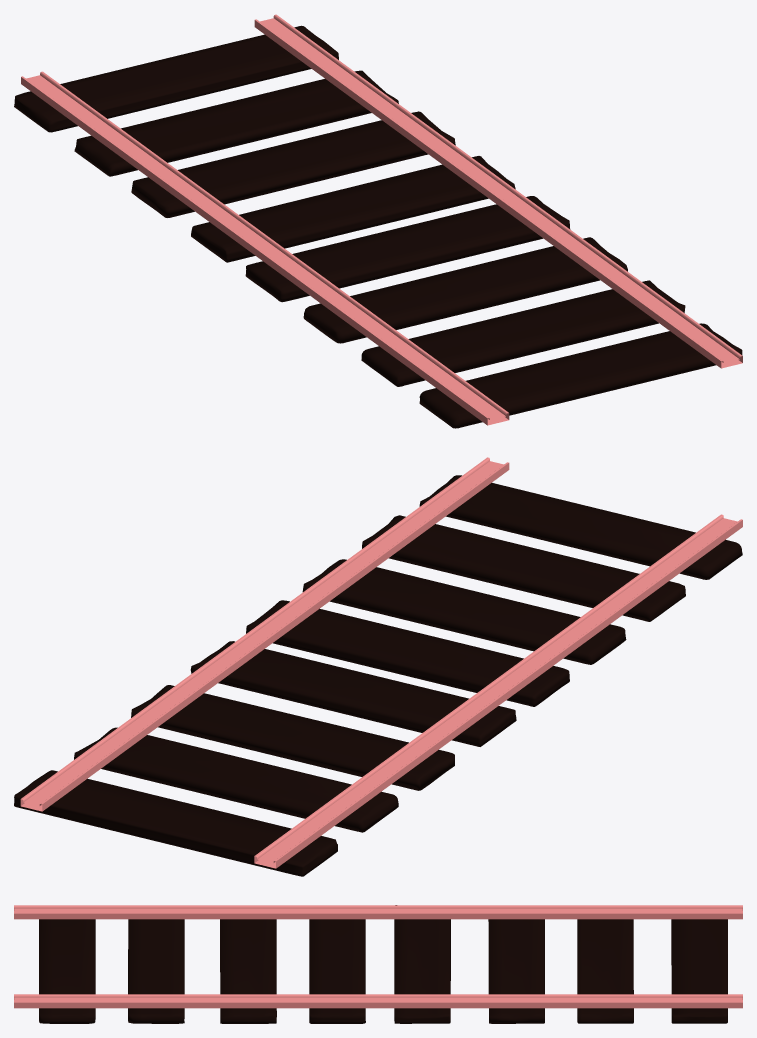
File: RailsLowCombines.FBX
The picture shows the model from 3 angles, top to bottom: view 1: azimuth 30°, elevation 25°; view 2: azimuth 150°, elevation 25°; view 3: azimuth 270°, elevation 25°; orthographic projection. The views are drawn at different scales.
Visible parts, largest first — view 1: PlanksLow; view 2: PlanksLow; view 3: PlanksLow.
Boxes of the visible parts, <box> form: PlanksLow: <box>14,14,742,428</box>; PlanksLow: <box>14,457,742,876</box>; PlanksLow: <box>14,905,742,1023</box>.
Size of the model in its own units: 454 by 28.07 by 1262.
